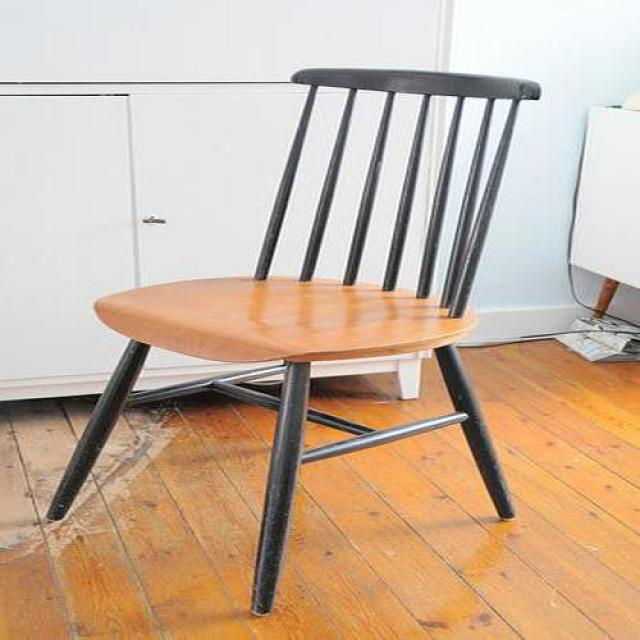chair: (47, 69, 540, 618)
